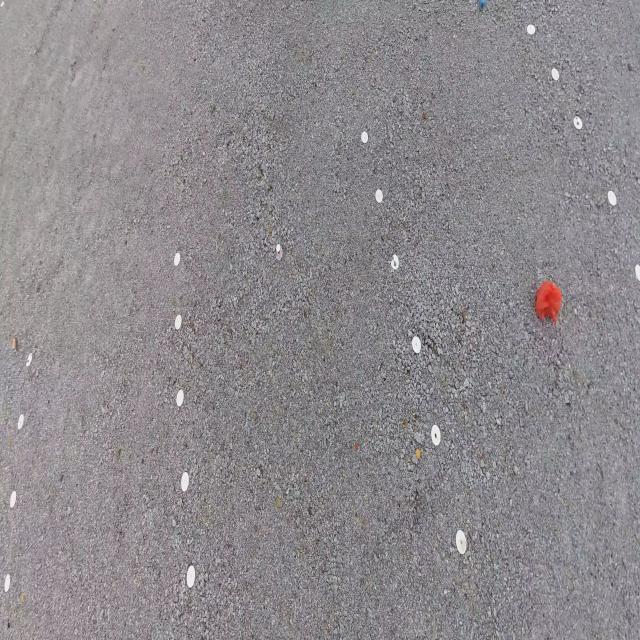rubbish: (534, 281, 562, 324), (275, 244, 283, 259), (11, 336, 17, 352), (480, 0, 487, 9)
